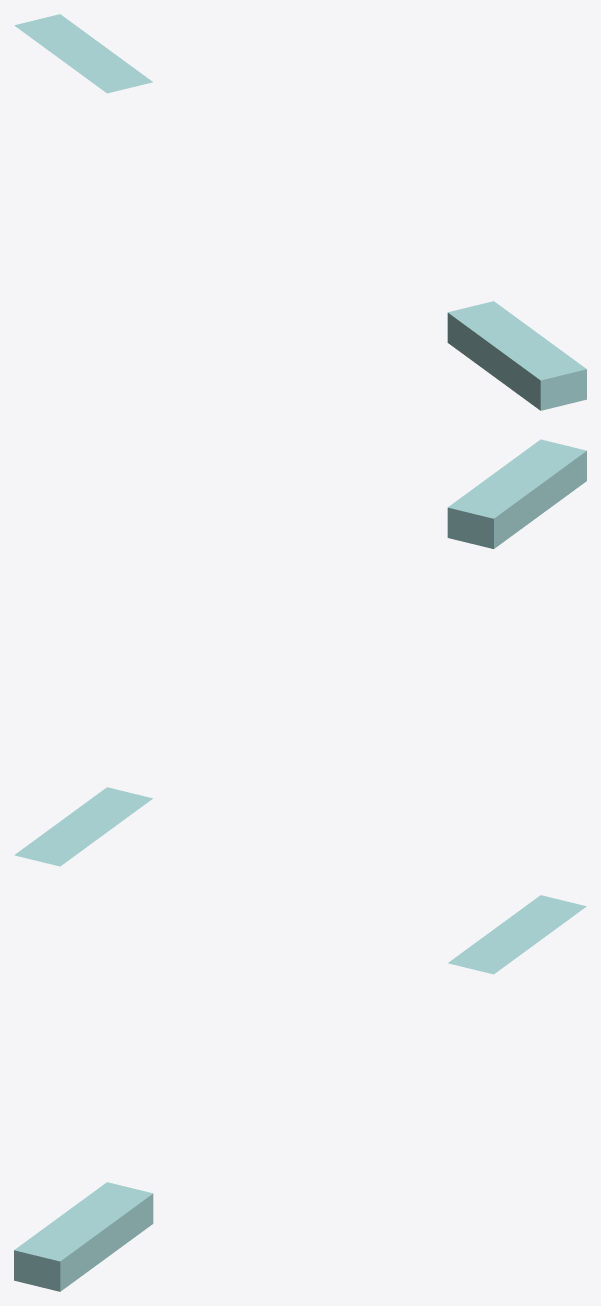
File: Ring_02_Inner_Channel_01.fbx
3 views of the same model, one above another, from view 1: azimuth 30°, elevation 25°; view 2: azimuth 150°, elevation 25°; view 3: azimuth 330°, elevation 25° (orthographic).
Visible parts, largest first — view 1: Ring_02_Inner_Channel_01, Ring_02_Inner_Floor_01; view 2: Ring_02_Inner_Channel_01, Ring_02_Inner_Floor_01; view 3: Ring_02_Inner_Channel_01, Ring_02_Inner_Floor_01.
Part boxes in pixels (box(x1,y1,x2,y2)): Ring_02_Inner_Channel_01: box(447, 301, 586, 410); Ring_02_Inner_Floor_01: box(14, 14, 152, 93); Ring_02_Inner_Channel_01: box(447, 439, 586, 548); Ring_02_Inner_Floor_01: box(14, 787, 152, 866); Ring_02_Inner_Channel_01: box(14, 1182, 153, 1291); Ring_02_Inner_Floor_01: box(448, 895, 586, 974).
Bounding box in the file's own units: 12.68 × 7.96 × 250.
